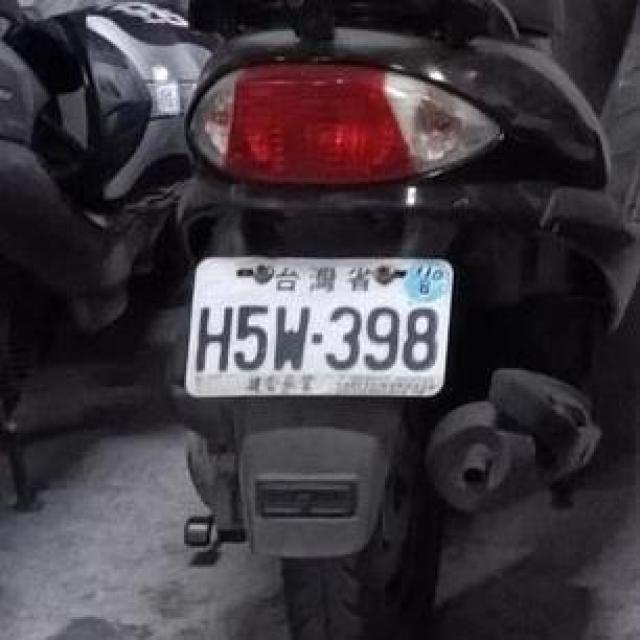W: (176, 238, 462, 412)
